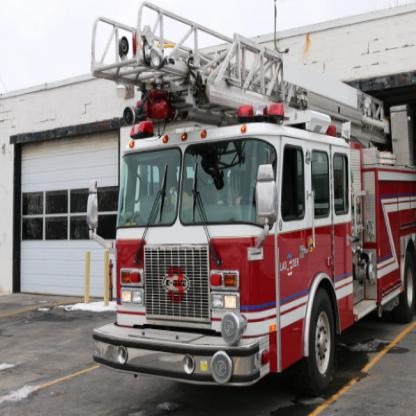fire-truck: (62, 0, 402, 407)
